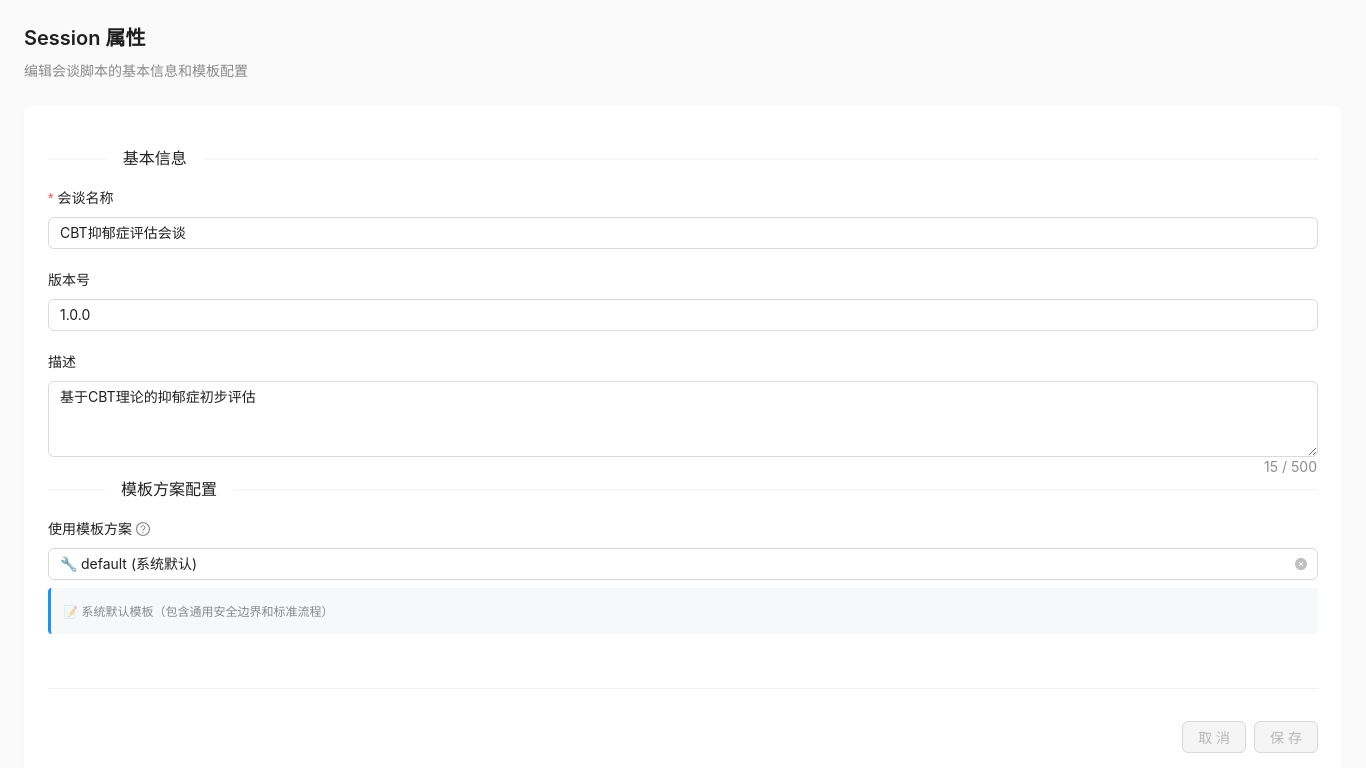
Test: SessionPropertyPanel 组件 › 表单验证 › 会谈名称为必填项
Clear the field with test id "input-name" at (683, 233), box [48,217,1318,249]
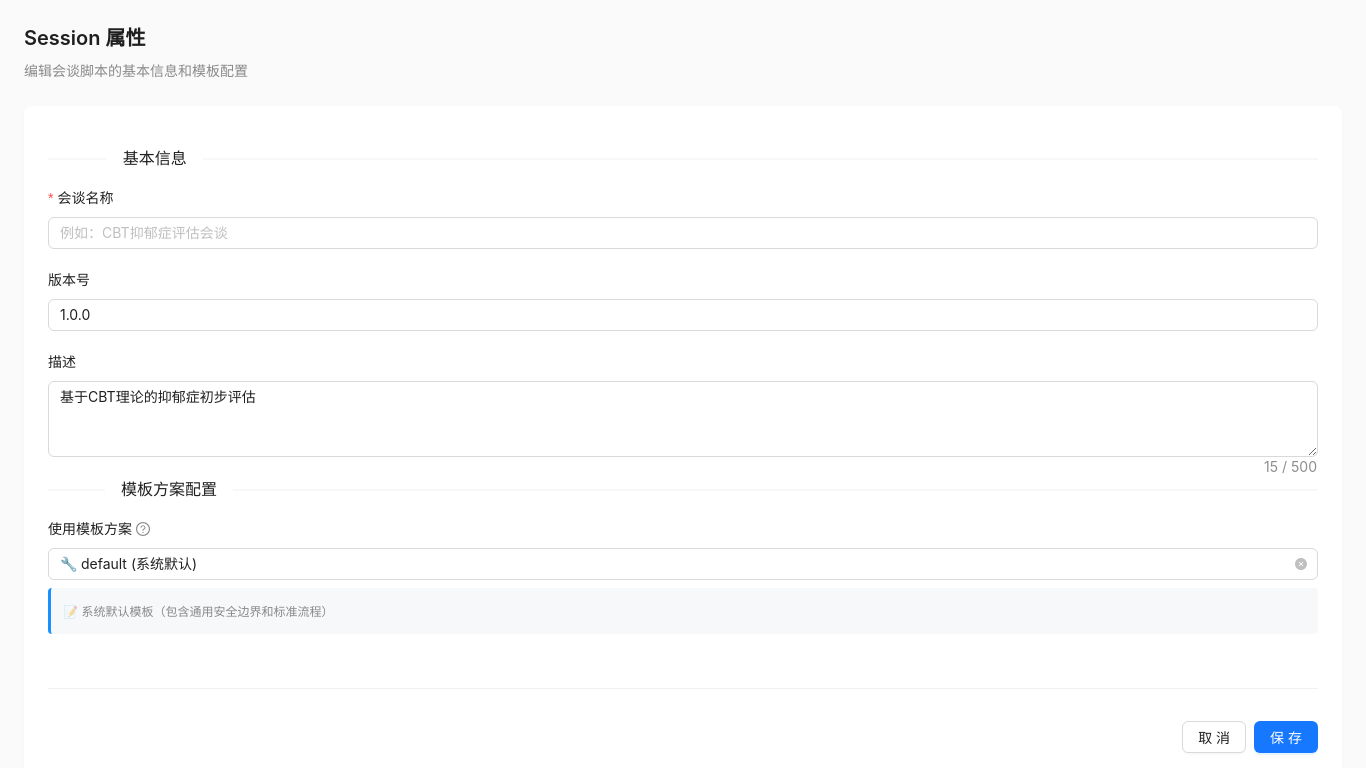
Click the button with test id "btn-save" at (1286, 737), box [1254,721,1318,753]
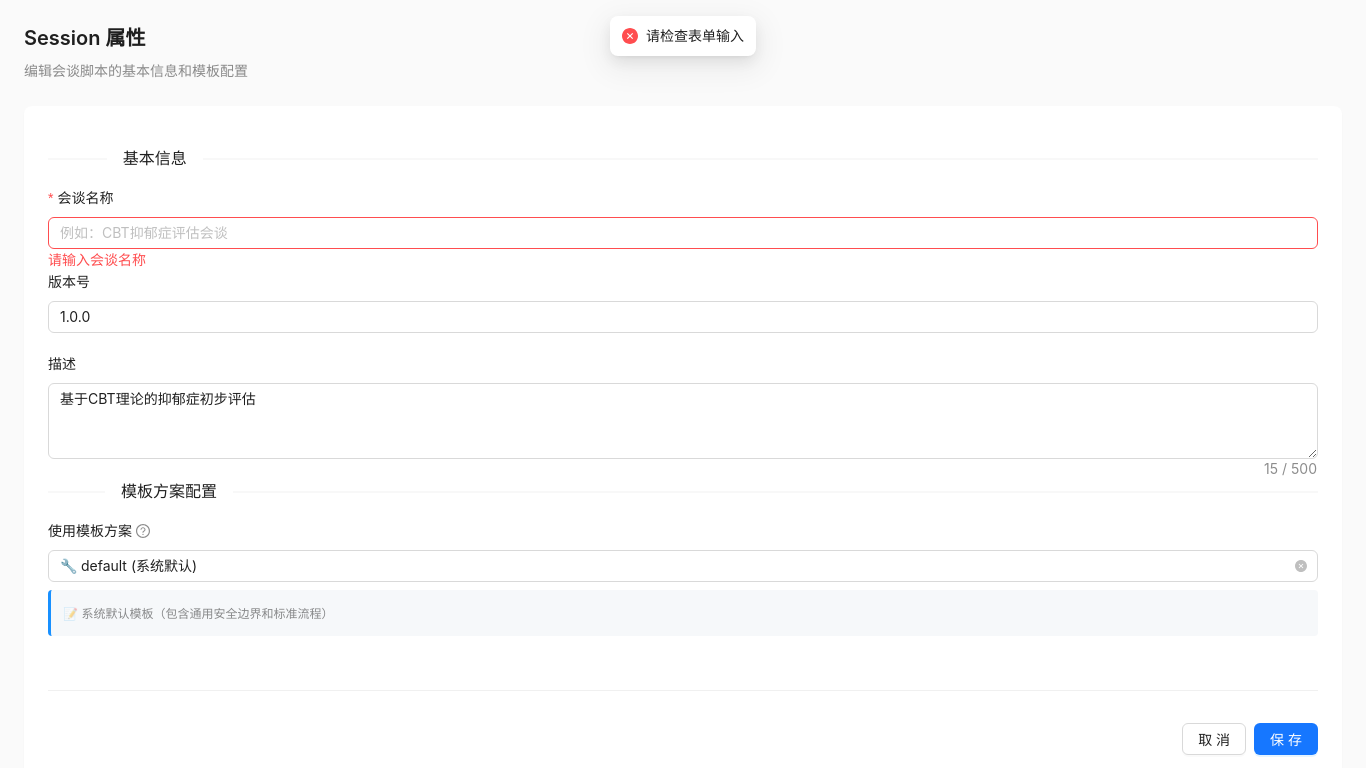
Expected: the text "请输入会谈名称" is shown, [48,251,146,268]
